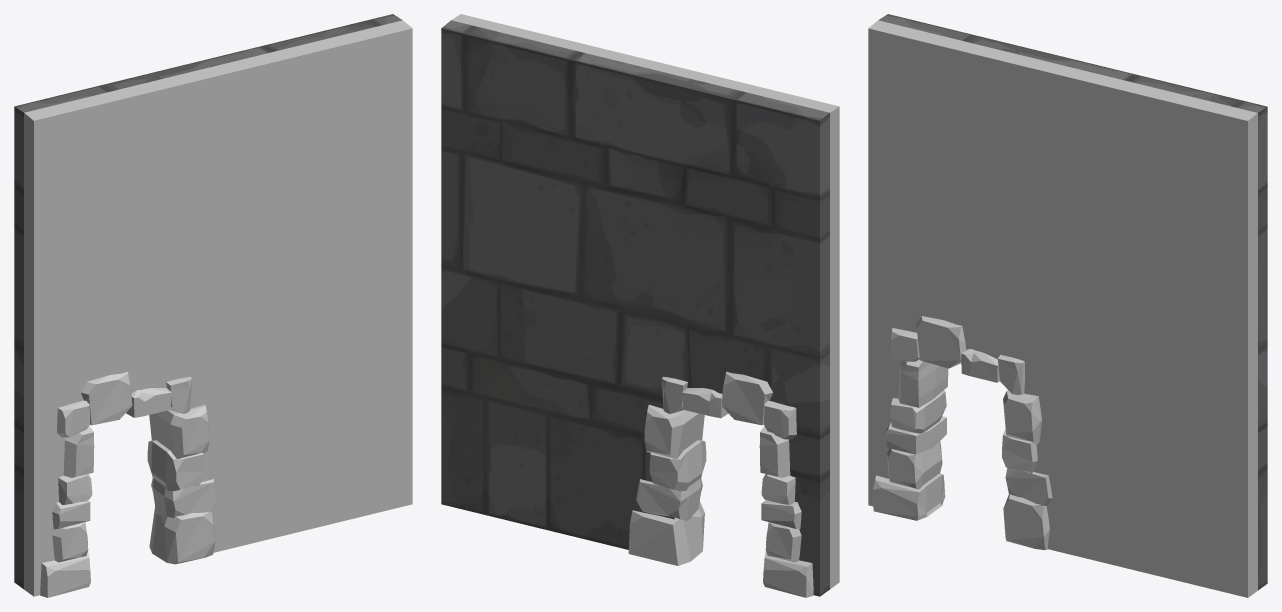
The model's file is SM_Bld_Wall_L_Door_01.fbx.
The picture shows the model from 3 angles, left to right: view 1: azimuth 30°, elevation 25°; view 2: azimuth 150°, elevation 25°; view 3: azimuth 330°, elevation 25°; orthographic projection.
Parts seen in each view (by area): view 1: SM_Bld_Wall_L_Door_01; view 2: SM_Bld_Wall_L_Door_01; view 3: SM_Bld_Wall_L_Door_01.
Part boxes in pixels (<box>): SM_Bld_Wall_L_Door_01: <box>14,14,412,597</box>; SM_Bld_Wall_L_Door_01: <box>441,14,839,597</box>; SM_Bld_Wall_L_Door_01: <box>868,14,1267,597</box>.
Bounding box in the file's own units: 500 × 604 × 73.12.
